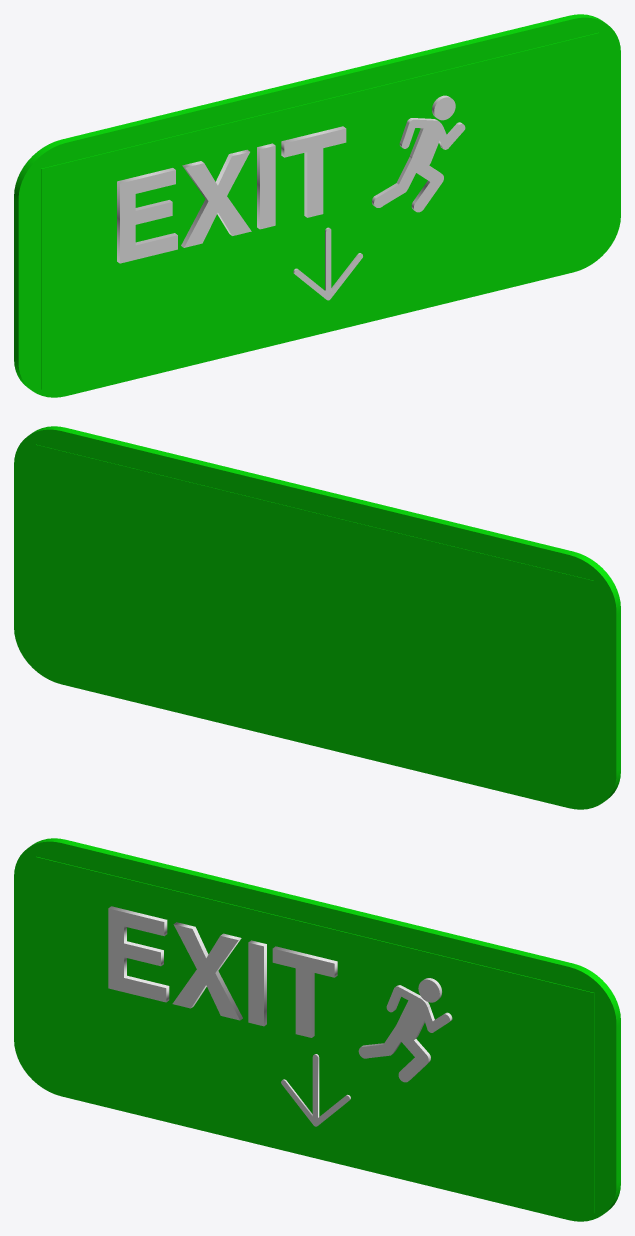
The model's file is ExitSignDown.fbx.
3 views of the same model, one above another, from view 1: azimuth 30°, elevation 25°; view 2: azimuth 150°, elevation 25°; view 3: azimuth 330°, elevation 25° (orthographic).
Parts seen in each view (by area): view 1: Cube.001, Curve.026, Curve.027, Curve.018, Curve.028, Curve.030, Curve.029, Curve.022; view 2: Cube.001, Curve.026; view 3: Cube.001, Curve.026, Curve.027, Curve.028, Curve.018, Curve.030, Curve.029, Curve.022.
Boxes of the visible parts, x1,y1,x2,y2 form: Cube.001: [41, 32, 598, 389]; Curve.026: [14, 14, 620, 397]; Curve.027: [117, 168, 177, 263]; Curve.018: [371, 118, 465, 212]; Curve.028: [181, 149, 251, 247]; Curve.030: [281, 126, 346, 217]; Curve.029: [257, 143, 275, 229]; Curve.022: [293, 227, 362, 300]; Cube.001: [36, 444, 593, 801]; Curve.026: [14, 426, 620, 809]; Cube.001: [36, 856, 594, 1213]; Curve.026: [14, 838, 620, 1221]; Curve.027: [108, 906, 169, 1002]; Curve.028: [172, 922, 242, 1020]; Curve.018: [358, 985, 452, 1082]; Curve.030: [272, 946, 337, 1037]; Curve.029: [248, 940, 266, 1026]; Curve.022: [281, 1054, 350, 1126].
Size of the model in its own units: 742 by 298 by 22.07.
